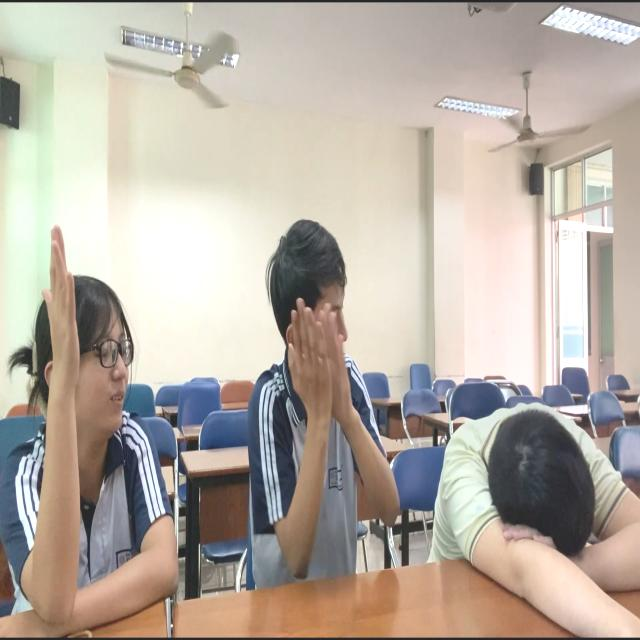raise_hand: (15, 225, 161, 639)
sleep: (433, 405, 640, 610)
